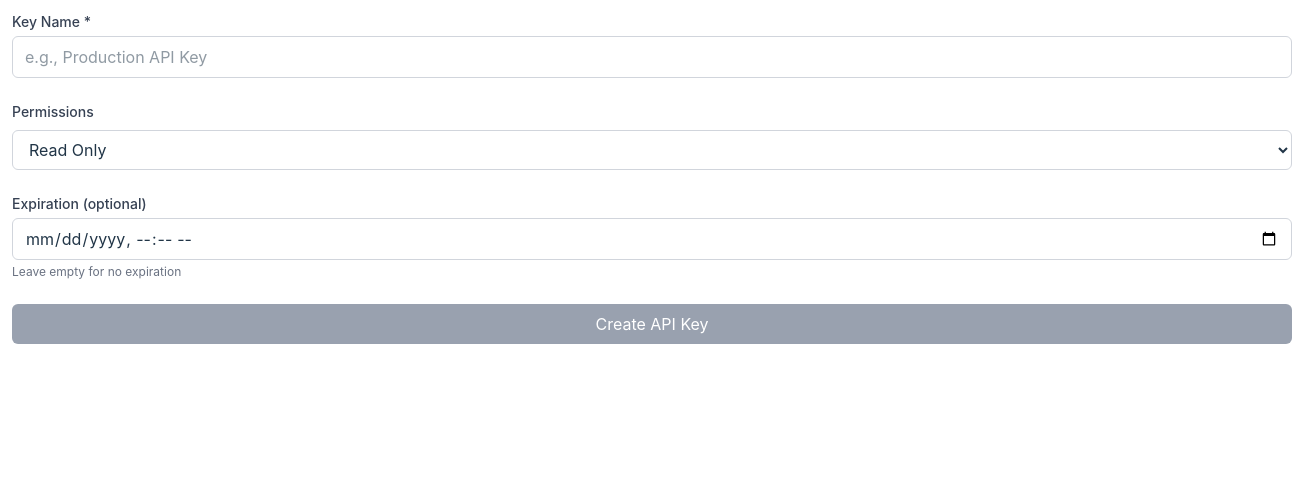
it: CreateKeyModal › requires at least one permission for the custom preset
This screenshot has width=1304, height=497.
Type "Production API Key" into the field with placeholder "e.g., Production API Key" at (652, 57), box [12,36,1292,78]
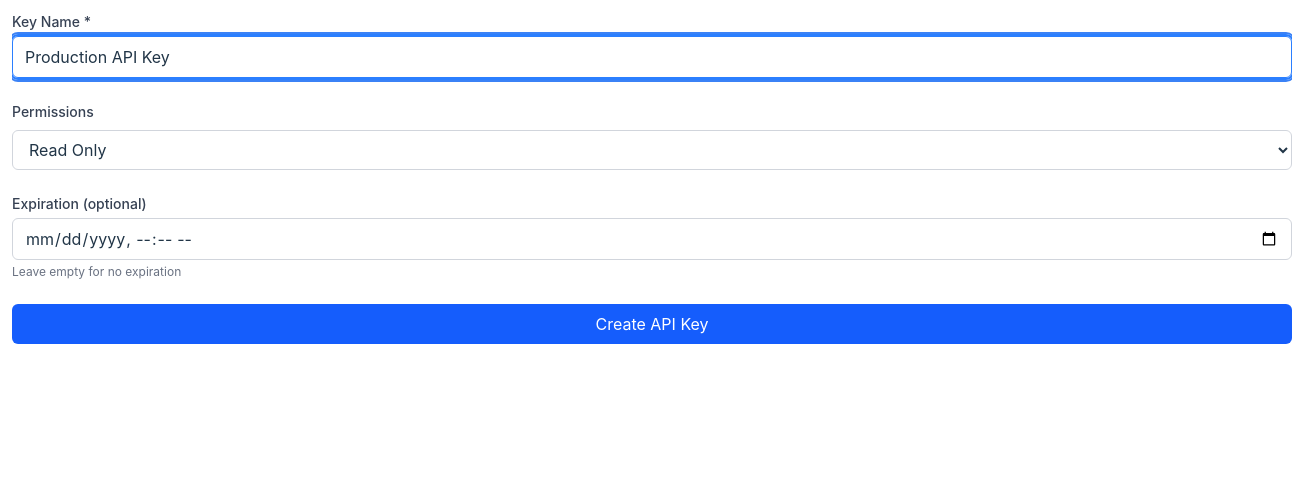
Select "Custom" in the dropdown at (652, 150), box [12,130,1292,170]
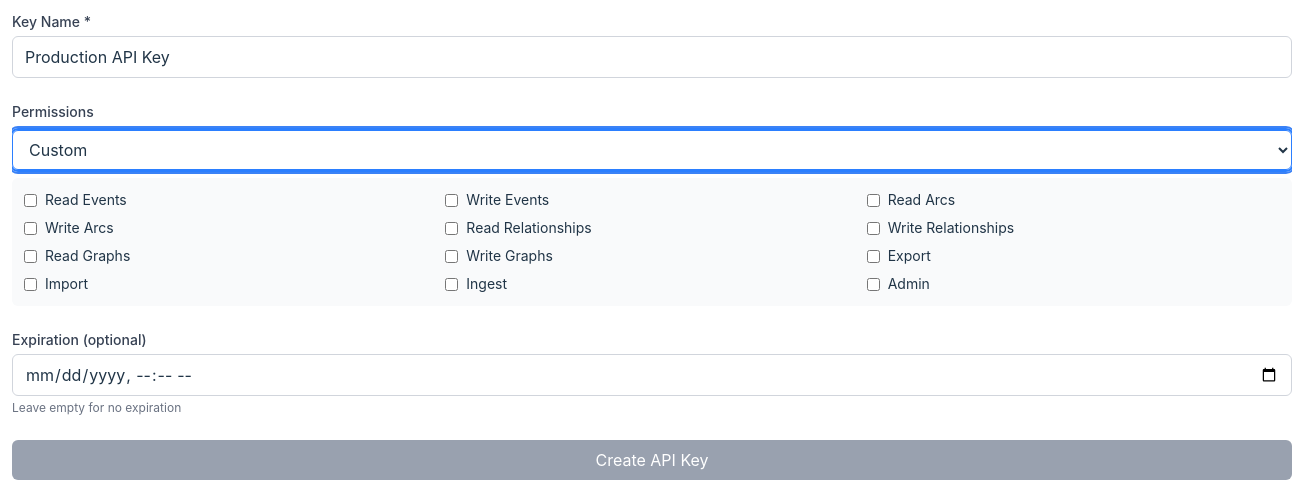
Expected: the button "Create API Key" is disabled, [12,440,1292,480]
Click the checkbox labelled "Read Events" at (30, 200), box [24,194,37,206]
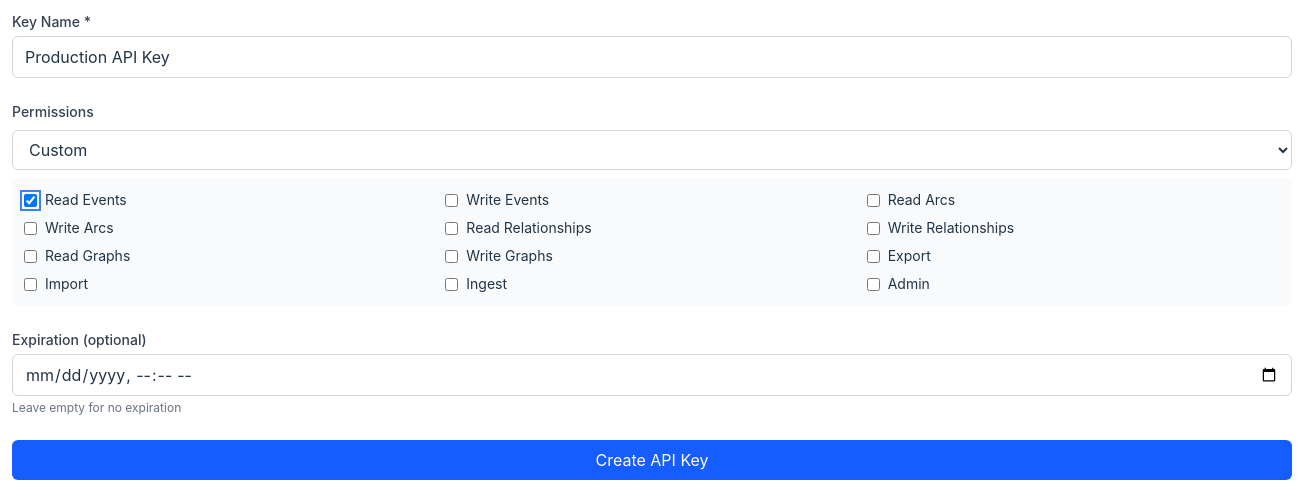
Expected: the button "Create API Key" is enabled, [12,440,1292,480]
